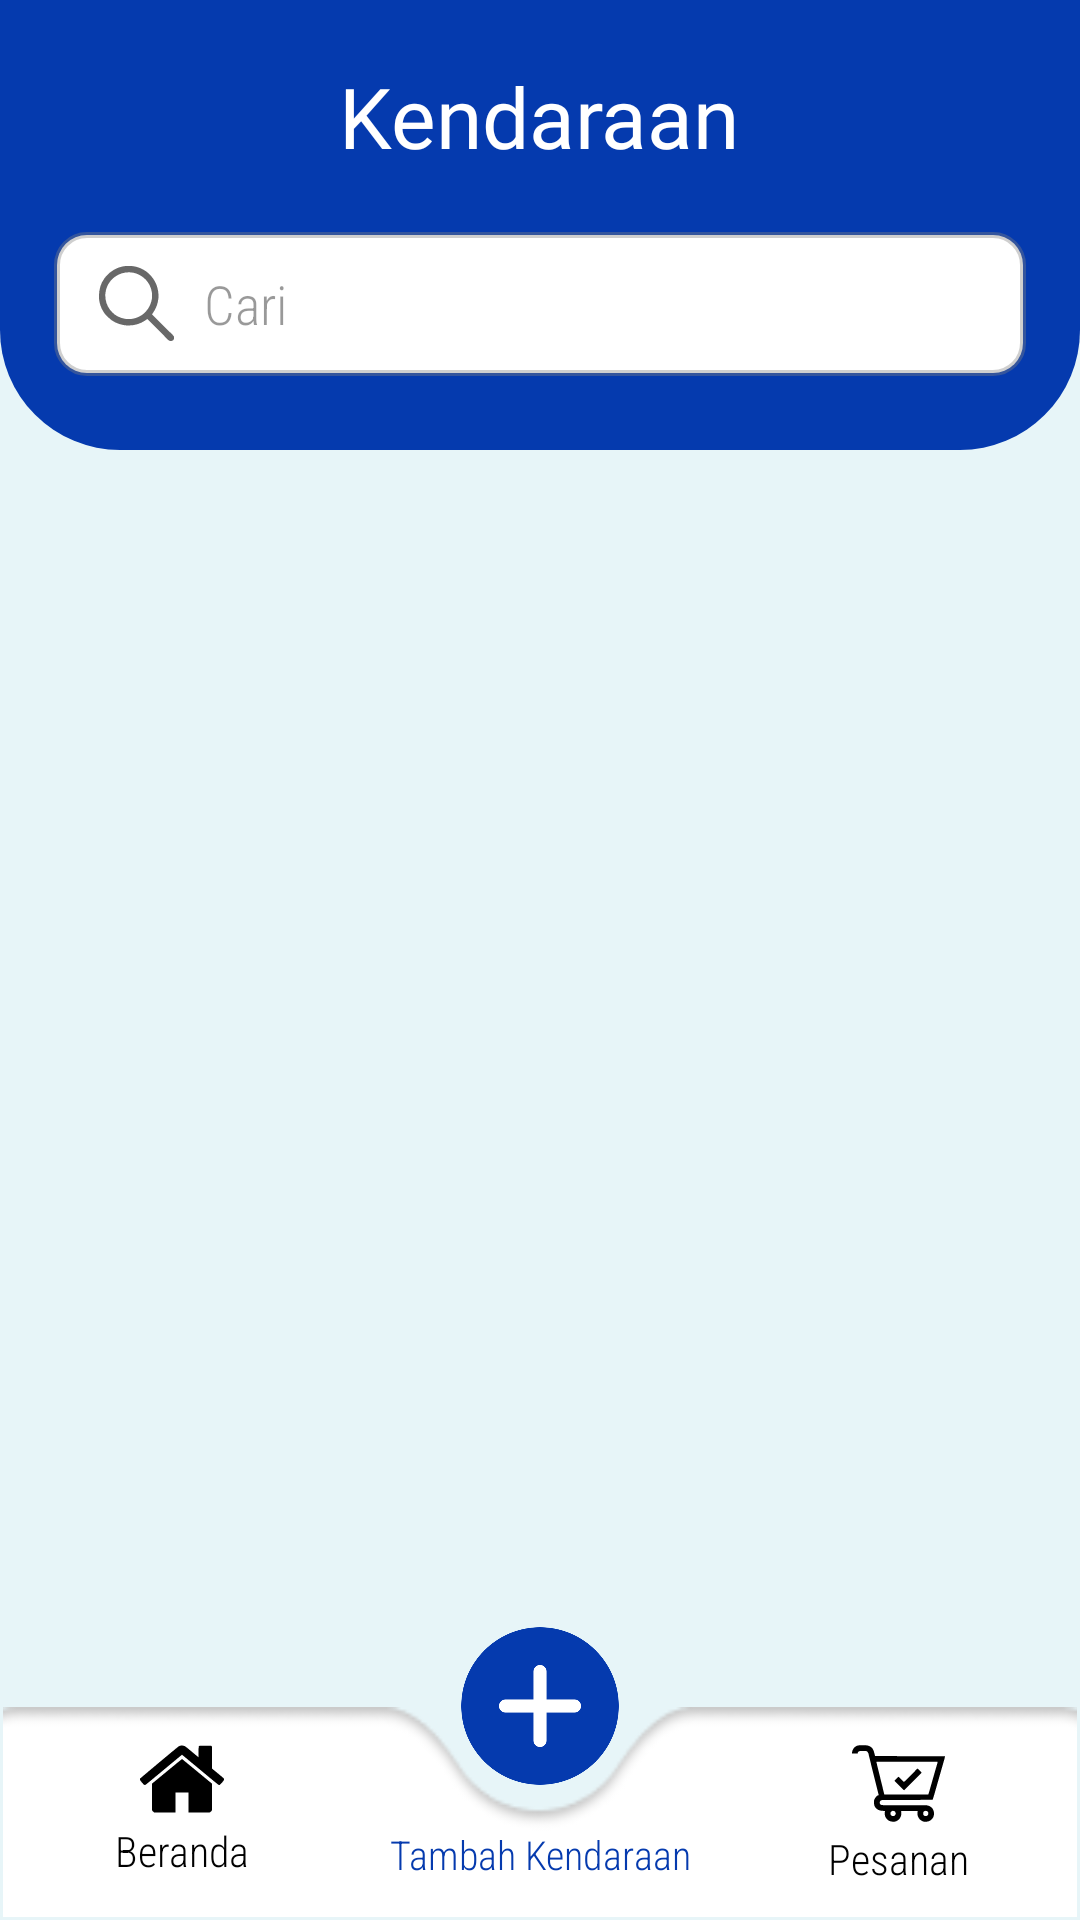

Named icons in this screenshot (1080x1920) and their centers, [x,y]:
checkout: [898,1783]
